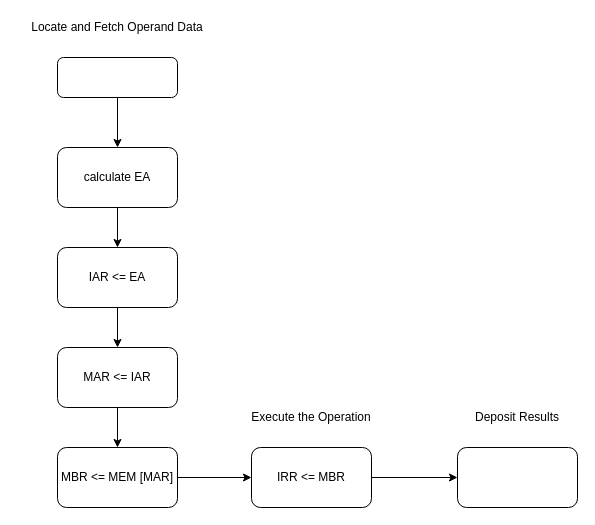
Some shapes in this 595 by 525 pixel diagram are drawn without their labels. Each missing label, with the box of its shape:
GPR <= IRR: (456, 446, 578, 508)
opcode == 1: (56, 56, 178, 98)
